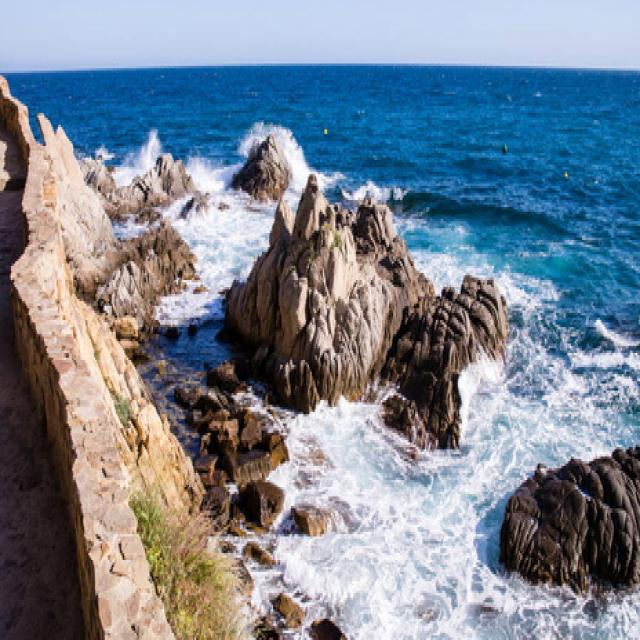reef: (218, 114, 517, 427), (513, 447, 640, 609)
